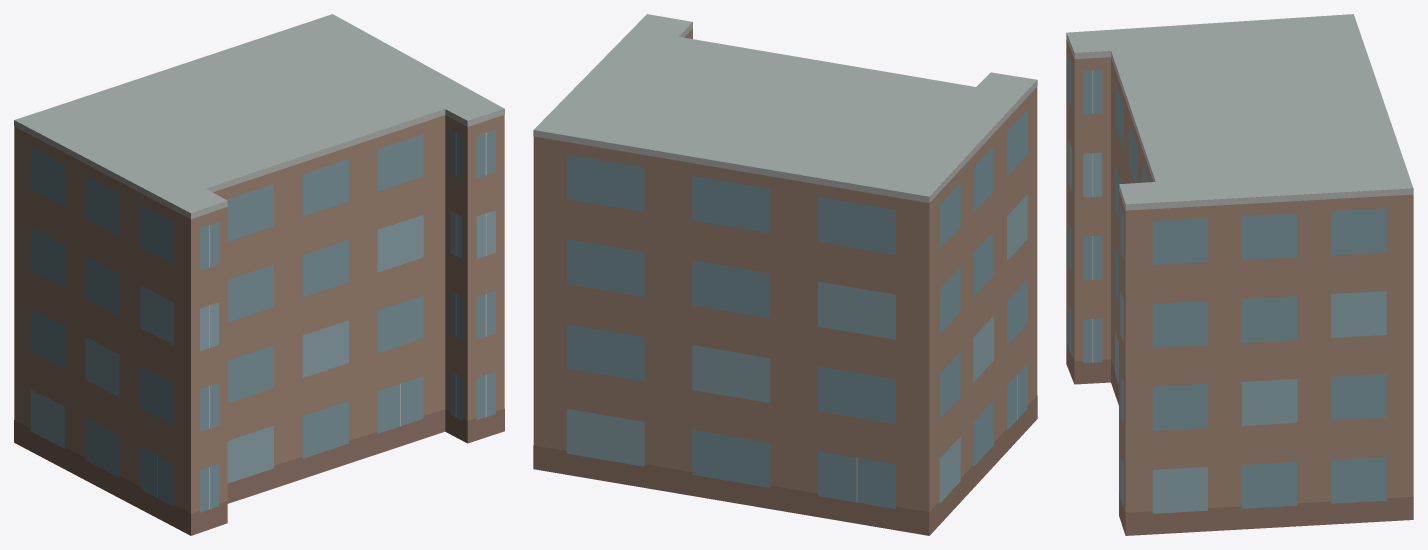
Rendered from survey-upis-32735220.glb.
The picture shows the model from 3 angles, left to right: view 1: azimuth 30°, elevation 25°; view 2: azimuth 150°, elevation 25°; view 3: azimuth 270°, elevation 25°; orthographic projection. The views are drawn at different scales.
Parts seen in each view (by area): view 1: survey-upis-32735220.tmp; view 2: survey-upis-32735220.tmp; view 3: survey-upis-32735220.tmp.
Part boxes in pixels (left/top/right/bottom): survey-upis-32735220.tmp: left=14, top=14, right=504, bottom=535; survey-upis-32735220.tmp: left=533, top=14, right=1037, bottom=535; survey-upis-32735220.tmp: left=1066, top=14, right=1413, bottom=535.
Size of the model in its own units: 15.96 by 12.95 by 12.3.
